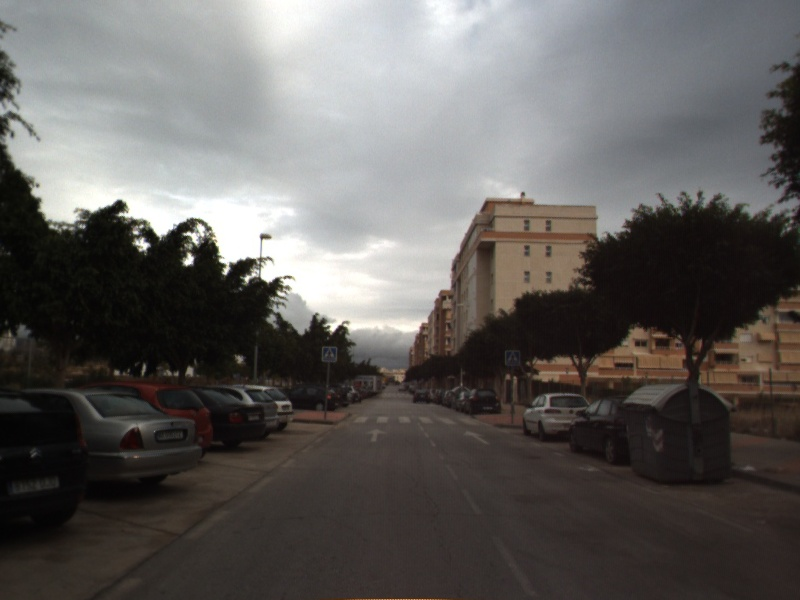STRAIGHT: (461, 428, 492, 446), (364, 427, 389, 444)
